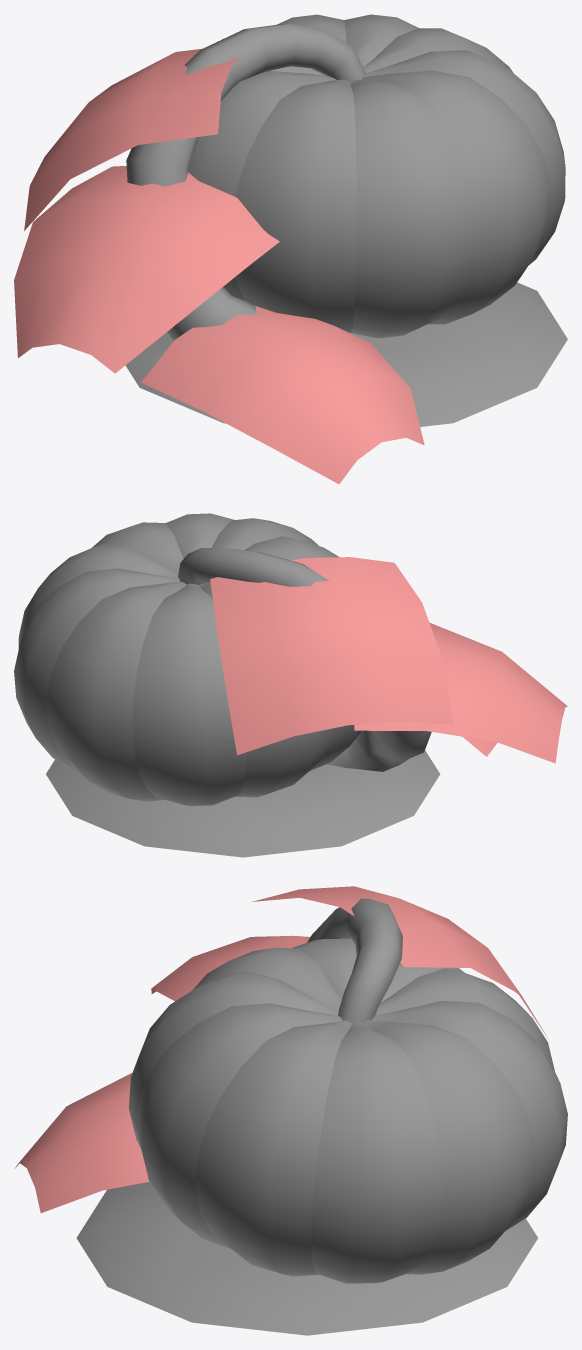
Rendered from HarvestablePumkin.fbx.
3 renders of one model, top to bottom at view 1: azimuth 30°, elevation 25°; view 2: azimuth 150°, elevation 25°; view 3: azimuth 270°, elevation 25°, orthographic. The views are drawn at different scales.
Parts seen in each view (by area): view 1: SM_Pumpkin_Harvestable; view 2: SM_Pumpkin_Harvestable; view 3: SM_Pumpkin_Harvestable.
Boxes of the visible parts, box(x1,y1,x2,y2) form: SM_Pumpkin_Harvestable: box(14, 14, 567, 484); SM_Pumpkin_Harvestable: box(14, 513, 567, 857); SM_Pumpkin_Harvestable: box(15, 886, 567, 1335).
Size of the model in its own units: 140 by 80.11 by 119.
